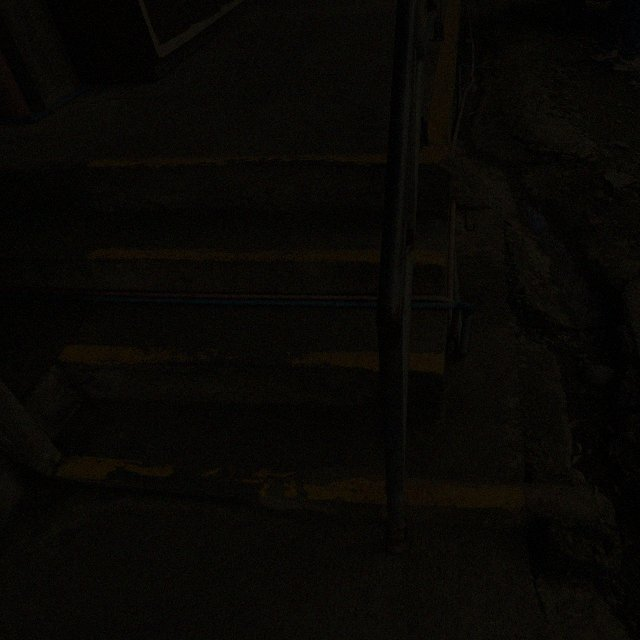stair: (0, 0, 395, 505), (407, 308, 522, 484), (414, 0, 460, 298), (140, 442, 142, 442)
